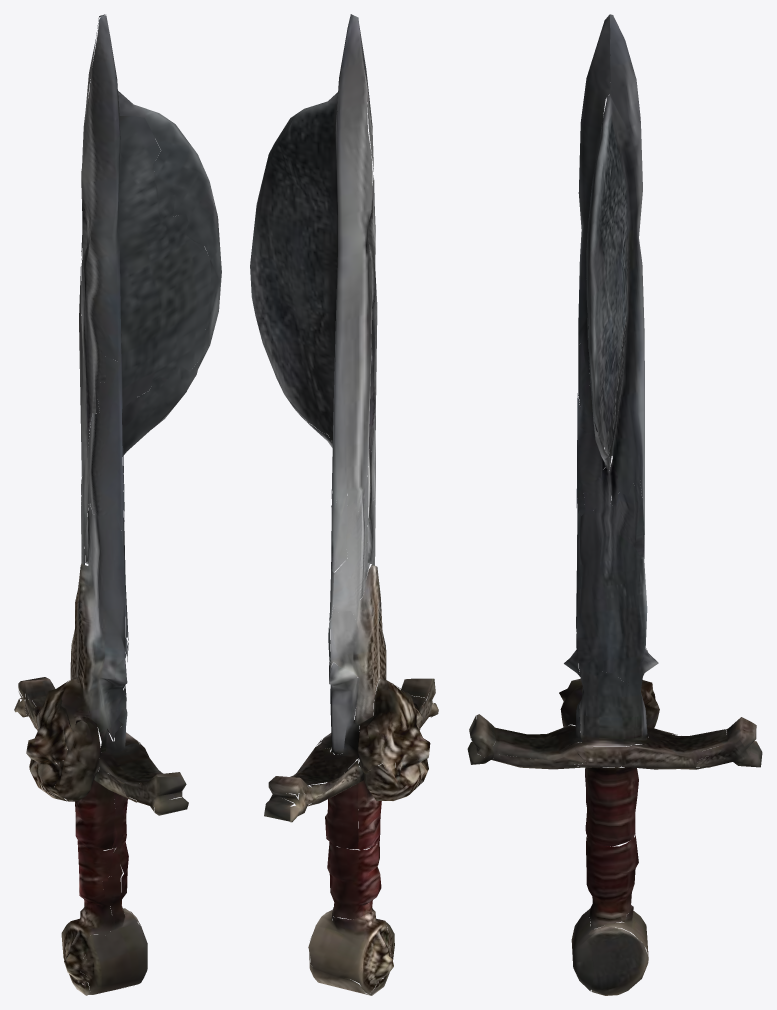
Rendered from lionguard_sword.glb.
The picture shows the model from 3 angles, left to right: view 1: azimuth 30°, elevation 25°; view 2: azimuth 150°, elevation 25°; view 3: azimuth 270°, elevation 25°; orthographic projection.
Parts seen in each view (by area): view 1: lionguard_sword; view 2: lionguard_sword; view 3: lionguard_sword.
Boxes of the visible parts, bbox=[...] form: lionguard_sword: bbox=[14, 14, 221, 995]; lionguard_sword: bbox=[250, 14, 438, 995]; lionguard_sword: bbox=[467, 14, 762, 995].
Size of the model in its own units: 0.2188 by 1.09 by 0.301.
1 material, 1 textured.
